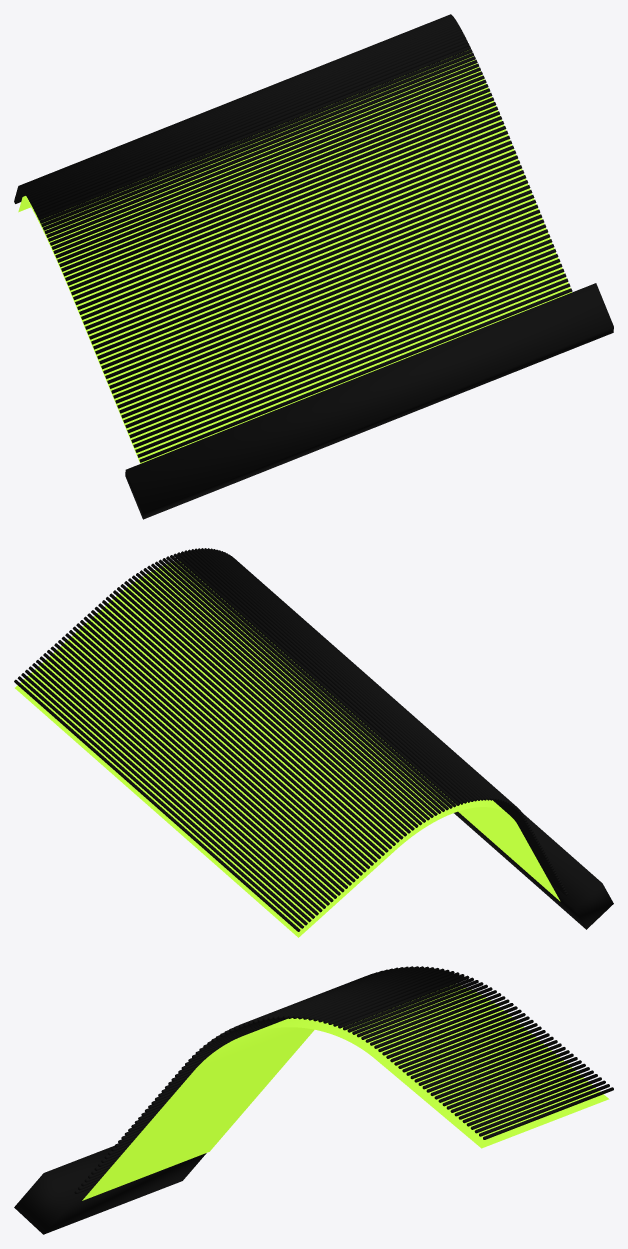
The picture shows the model from 3 angles, top to bottom: view 1: azimuth 30°, elevation 25°; view 2: azimuth 150°, elevation 25°; view 3: azimuth 270°, elevation 25°; orthographic projection. The views are drawn at different scales.
Visible parts, largest first — view 1: su, sheet, keta; view 2: su, sheet, keta; view 3: su, sheet, keta.
Boxes of the visible parts, x1,y1,x2,y2 form: su: [14, 14, 572, 462]; sheet: [18, 50, 571, 463]; keta: [125, 283, 613, 519]; su: [14, 548, 568, 931]; sheet: [15, 562, 560, 937]; keta: [454, 811, 613, 929]; su: [74, 966, 613, 1193]; sheet: [82, 986, 609, 1200]; keta: [14, 1146, 206, 1234].
Size of the model in its own units: 4.09 by 2.89 by 4.52.
